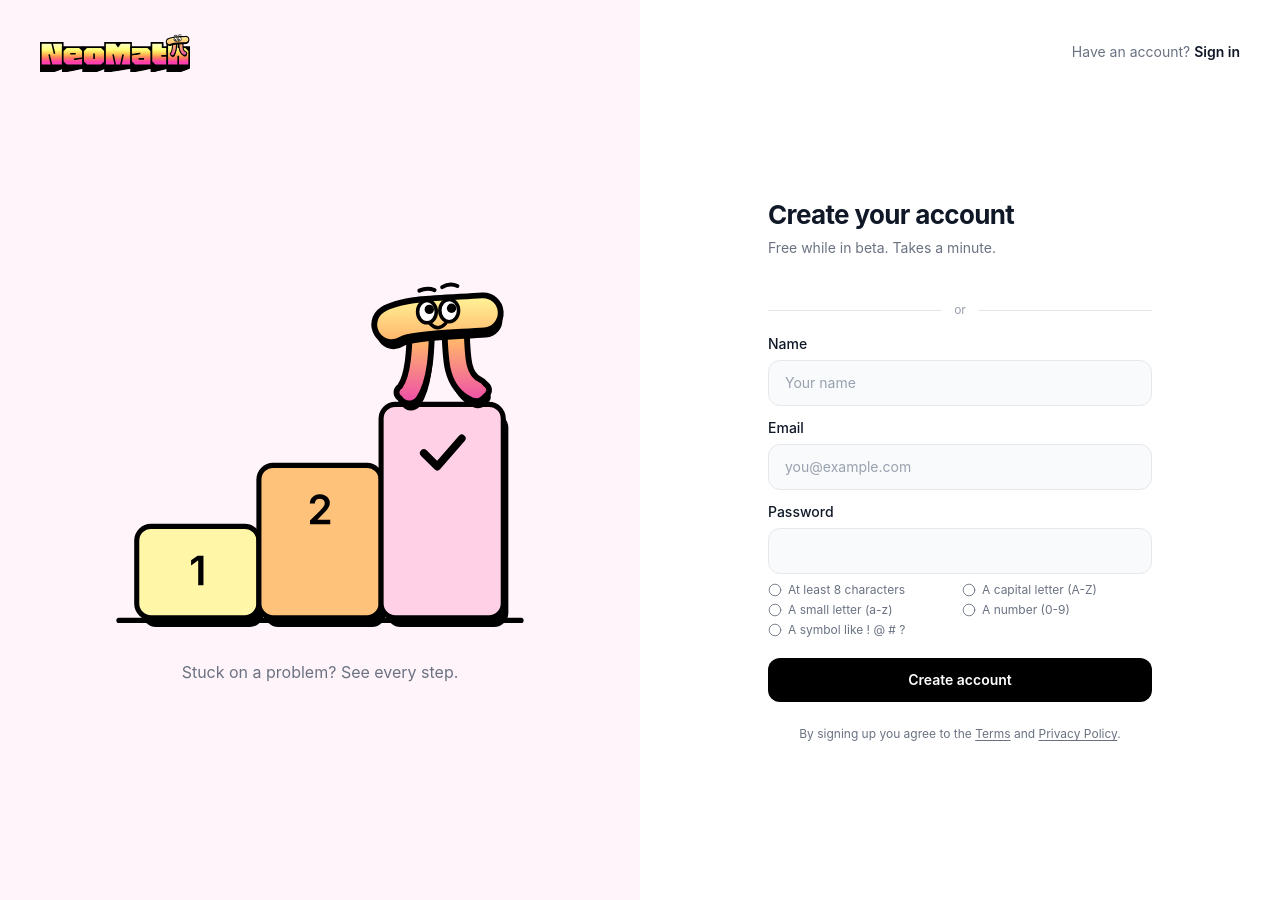
Scenario: password rules on sign-up › does not send a password that misses a rule
This screenshot has width=1280, height=900.
In the field labelled "Name": (960, 383) [768, 360, 1152, 406], type "Asha"
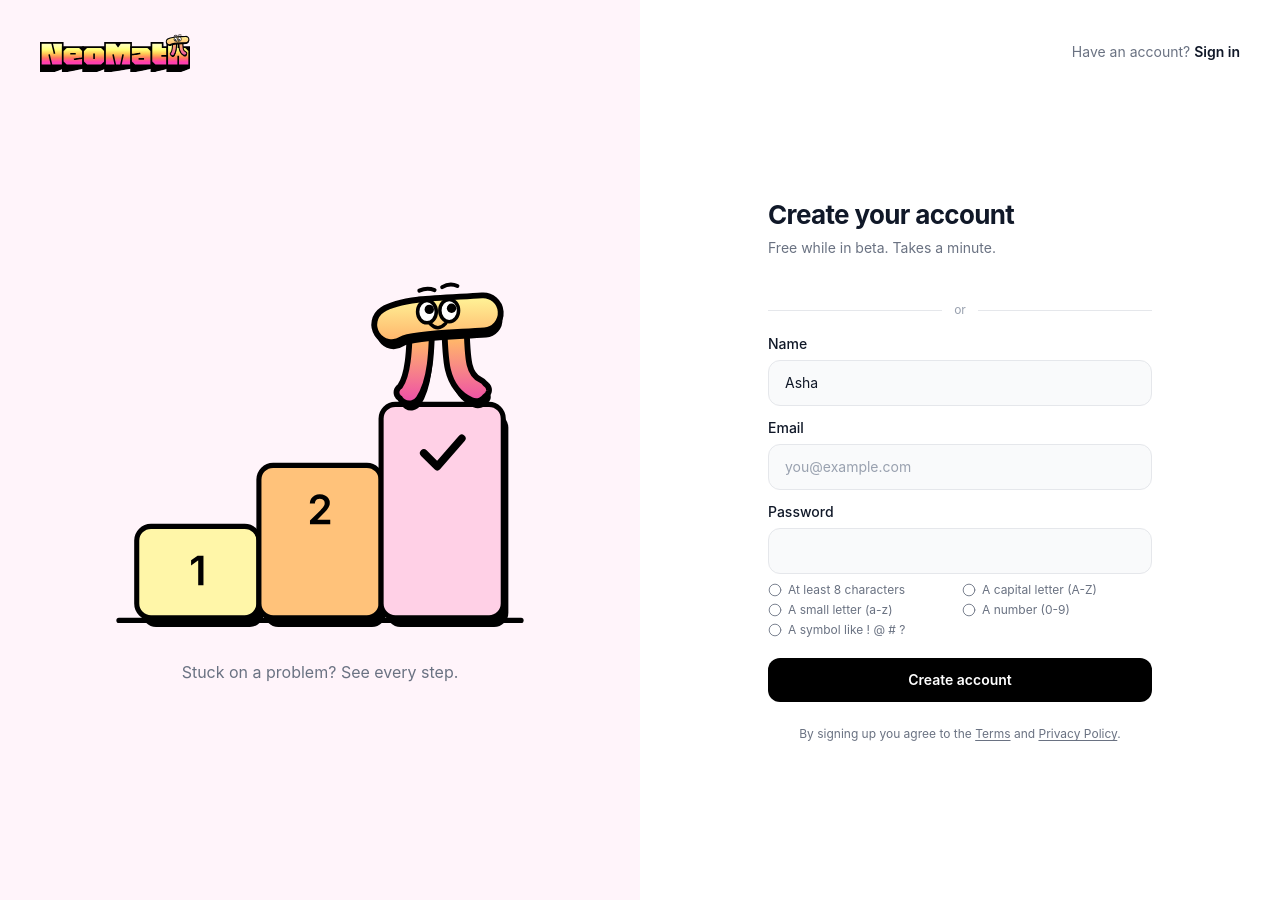
In the field labelled "Email": (960, 467) [768, 444, 1152, 490], type "asha@example.com"
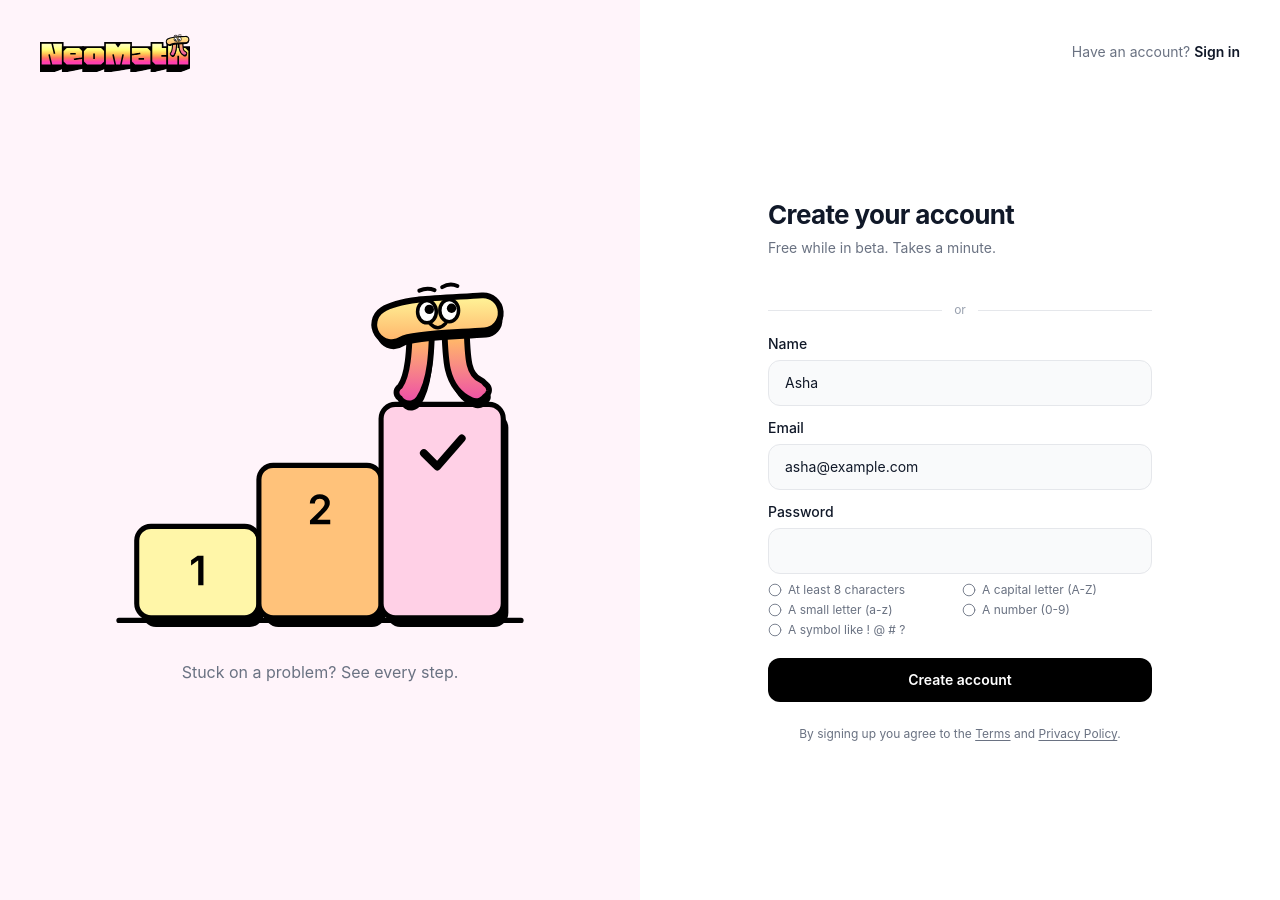
In the password field labelled "Password": (960, 551) [768, 528, 1152, 574], type "abcdefgh1!"
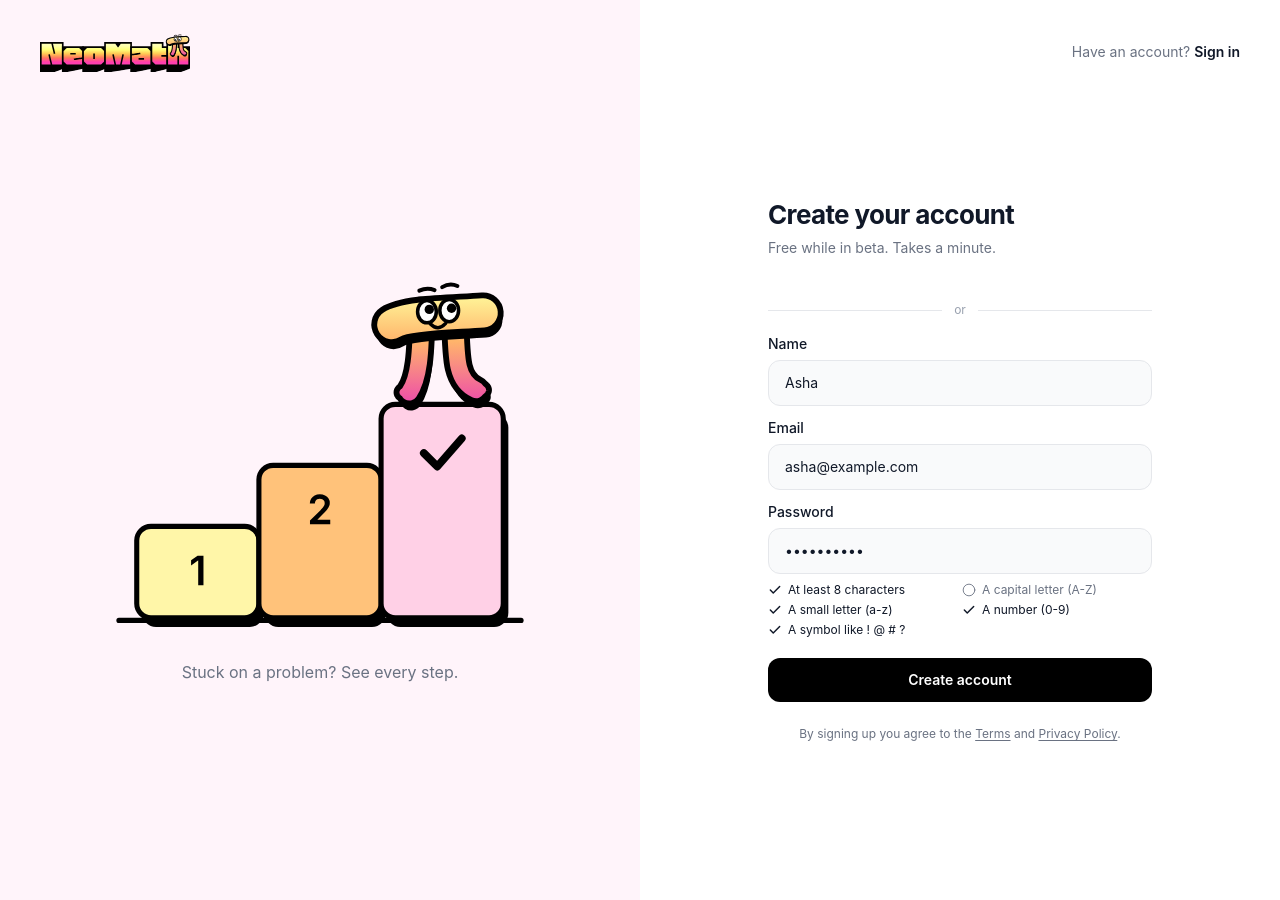
Click the button "Create account": (960, 680) [768, 658, 1152, 702]
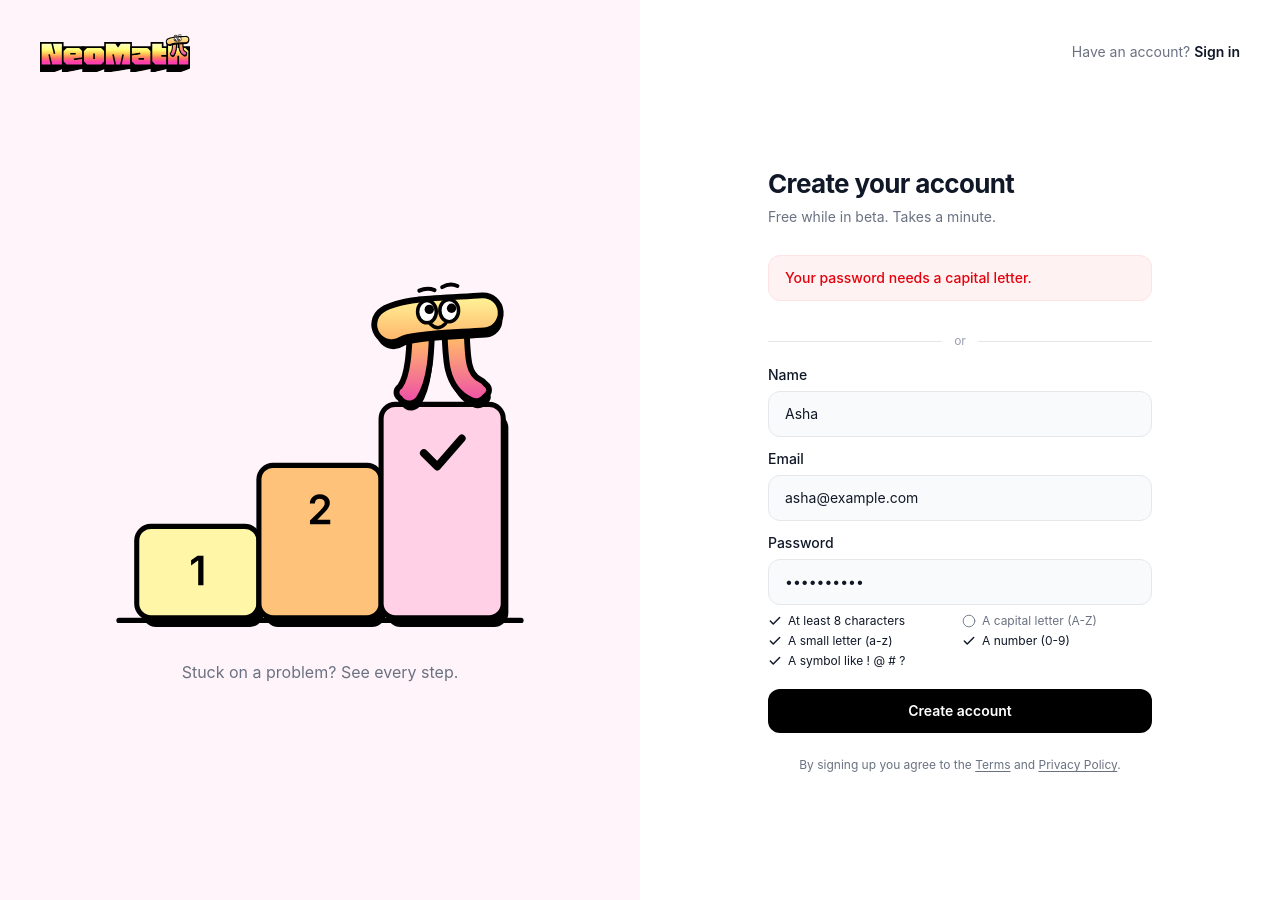
Now the message shows "a capital letter", box [785, 269, 1032, 286]
